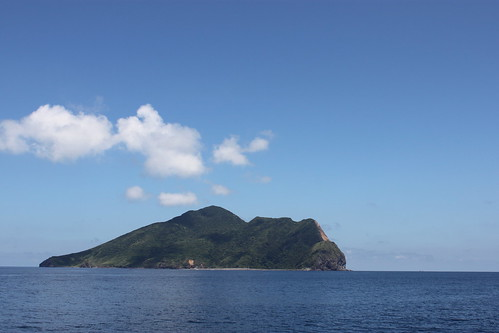turtleIsland: (40, 202, 343, 276)
